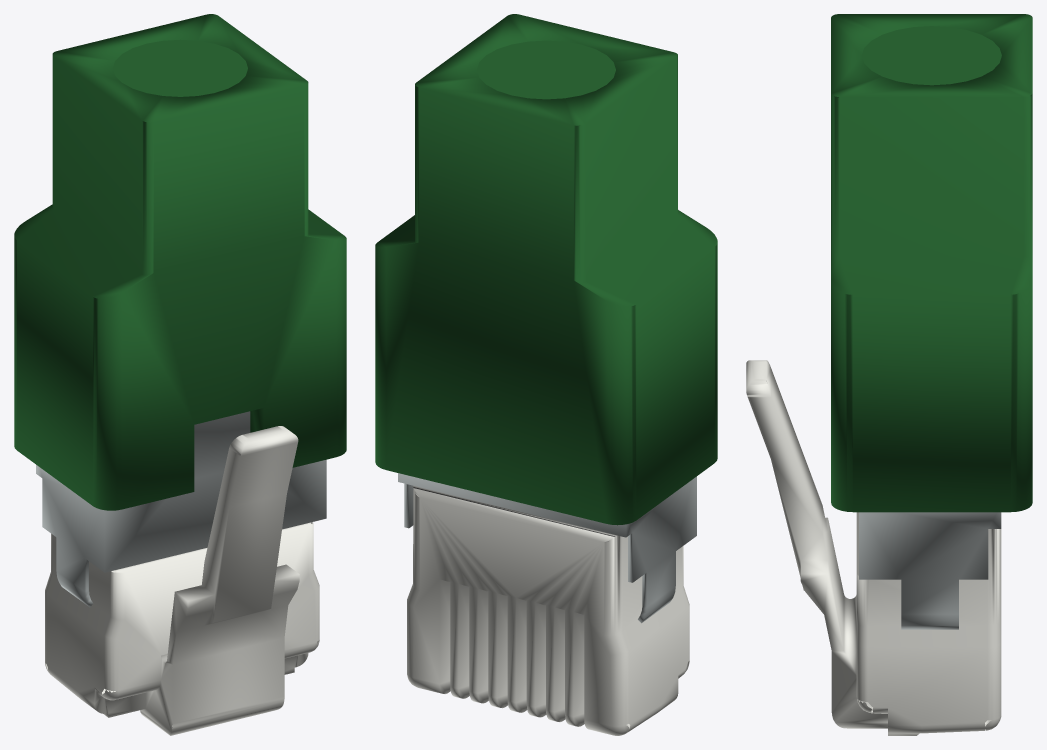
3 renders of one model, left to right at view 1: azimuth 30°, elevation 25°; view 2: azimuth 150°, elevation 25°; view 3: azimuth 270°, elevation 25°, orthographic. The views are drawn at different scales.
Parts seen in each view (by area): view 1: RJ45; view 2: RJ45; view 3: RJ45.
Part boxes in pixels (<box>): RJ45: <box>14,14,346,735</box>; RJ45: <box>375,14,717,735</box>; RJ45: <box>746,14,1032,735</box>.
Bounding box in the file's own units: 1.37 × 3.27 × 1.31.
